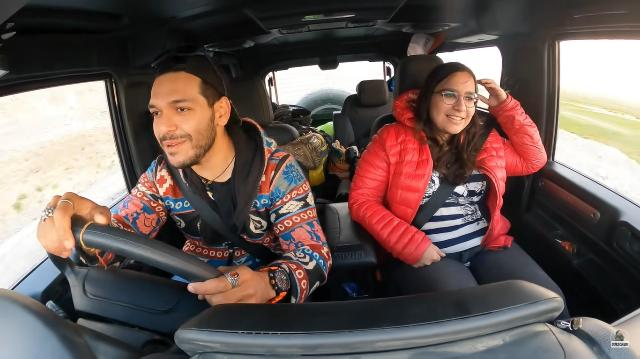seatbelt: (104, 123, 284, 327), (369, 109, 528, 303)
